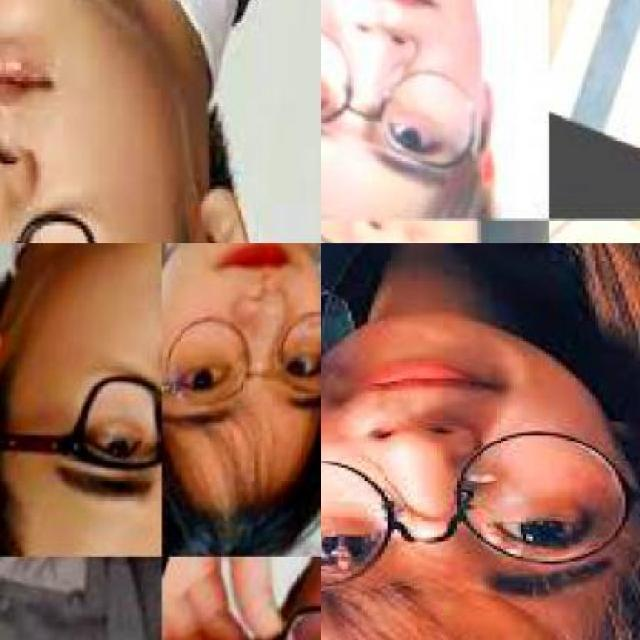mask: (320, 432, 638, 585), (320, 39, 491, 164), (164, 304, 324, 406), (0, 374, 154, 471)
